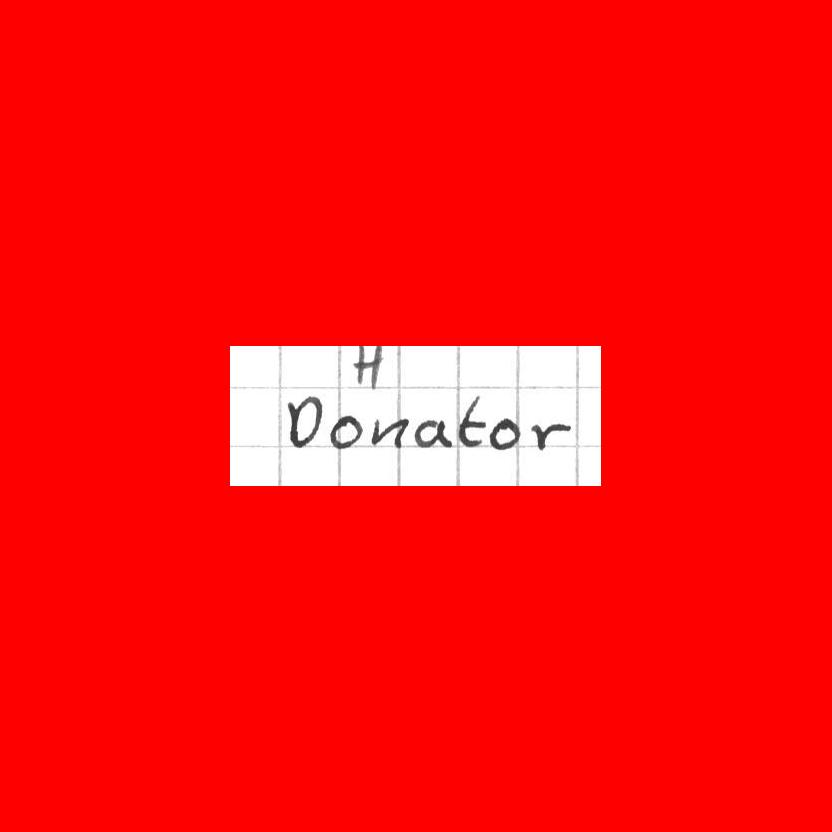Char: (284, 393, 326, 450), (343, 349, 388, 390), (457, 392, 484, 449), (367, 414, 408, 451), (326, 411, 362, 451), (529, 417, 568, 452), (414, 415, 452, 448), (488, 416, 519, 452)
